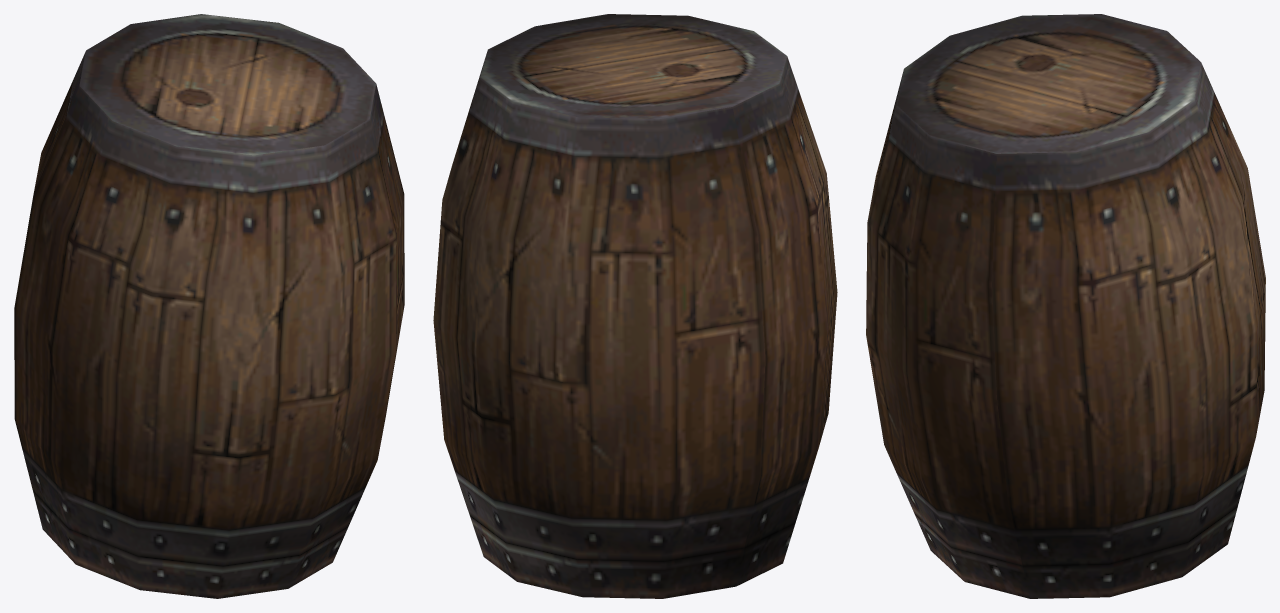
Rendered from 5011_Item_mutong_01.FBX.
The picture shows the model from 3 angles, left to right: view 1: azimuth 30°, elevation 25°; view 2: azimuth 150°, elevation 25°; view 3: azimuth 270°, elevation 25°; orthographic projection. The views are drawn at different scales.
Visible parts, largest first — view 1: 5011_Item_mutong_01; view 2: 5011_Item_mutong_01; view 3: 5011_Item_mutong_01.
Boxes of the visible parts, bbox=[...] form: 5011_Item_mutong_01: bbox=[14, 14, 404, 598]; 5011_Item_mutong_01: bbox=[433, 14, 837, 598]; 5011_Item_mutong_01: bbox=[866, 14, 1265, 598].
Size of the model in its own units: 1798 by 2408 by 1823.
